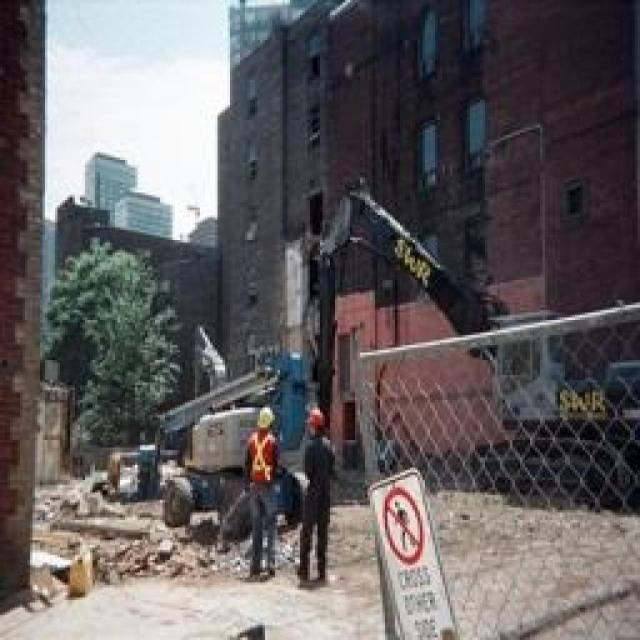Helmet: (292, 418, 344, 538), (242, 431, 278, 516), (288, 391, 338, 436), (245, 392, 285, 438)
